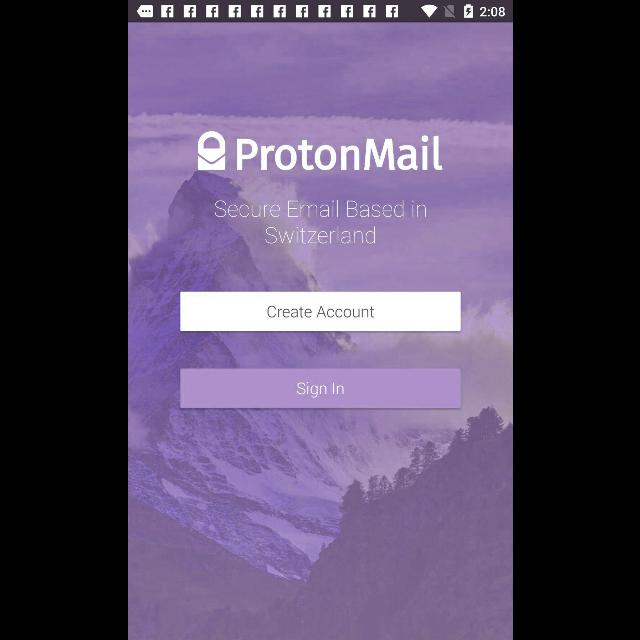backgroundimage: (128, 22, 512, 640)
image: (198, 132, 442, 170)
text: (213, 200, 425, 244)
textbutton: (180, 368, 460, 408), (180, 292, 460, 331)
uppertaskbar: (128, 1, 512, 23)
